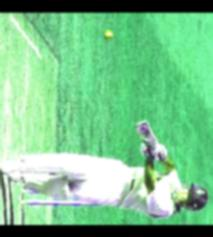batsman: (0, 98, 213, 224)
